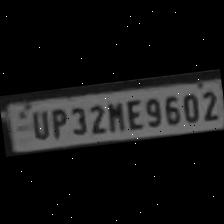0: (177, 88, 200, 122)
2: (196, 86, 220, 121), (83, 99, 106, 134)
3: (64, 100, 88, 134)
6: (158, 90, 180, 124)
9: (140, 92, 162, 126)
E: (121, 94, 143, 130)
M: (102, 96, 124, 132)
P: (44, 104, 66, 138)
U: (24, 106, 48, 140)
